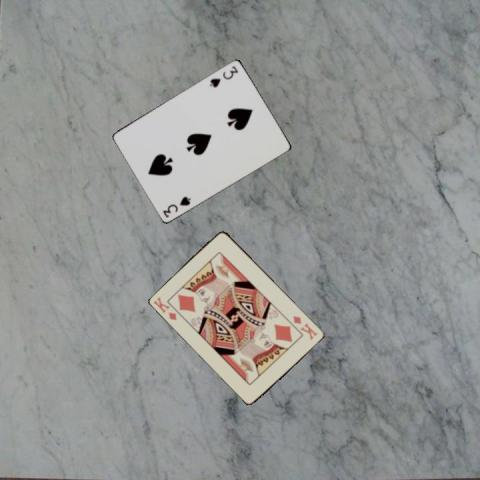3s: (207, 62, 239, 88), (160, 193, 192, 219)
Kd: (290, 313, 319, 341), (150, 293, 178, 322)
